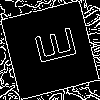E: (25, 25, 78, 69)
